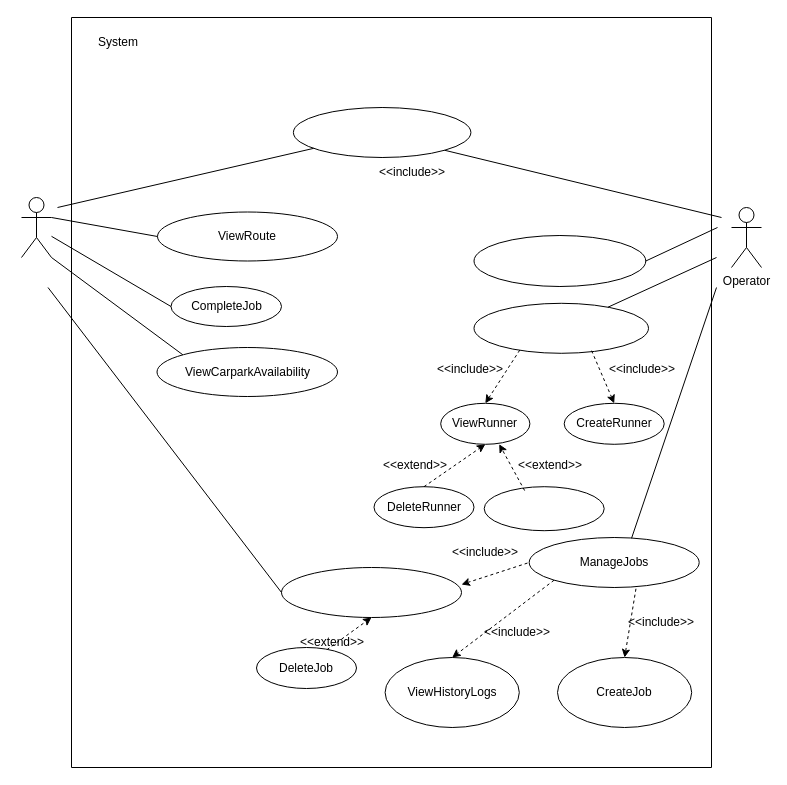
This 787x785 diagram has some shape labels left out. The shapes that lost their labels are listed below. From the top down, each one's centre as x and y in pixels, then its label:
the point at 381,132: Login
the point at 36,227: Runner
the point at 559,260: ViewActiveRunners
the point at 560,327: ManageRunners
the point at 543,508: ResetPassword
the point at 371,592: ViewJob
